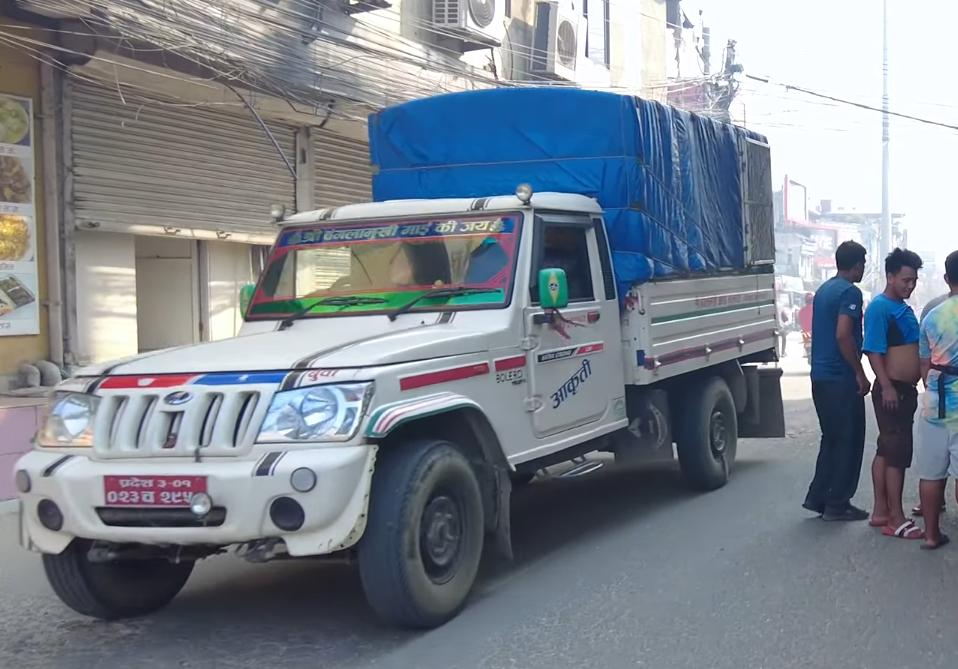transport_vehicle: (16, 72, 787, 638)
